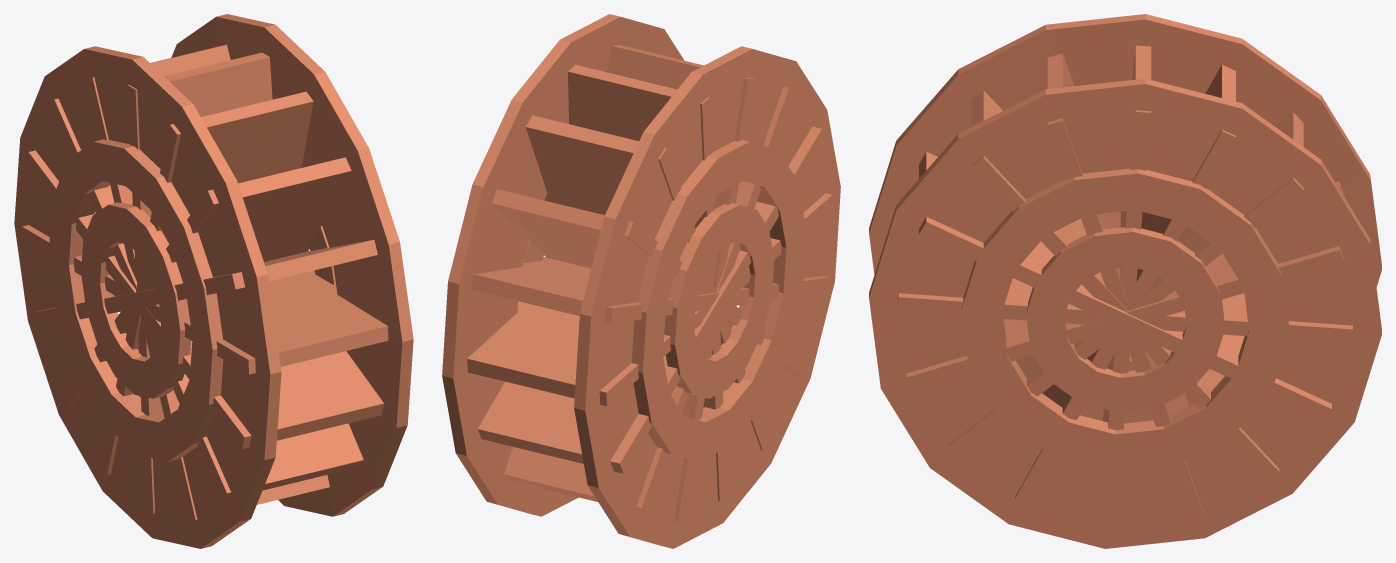
The model's file is watermill.fbx.
The picture shows the model from 3 angles, left to right: view 1: azimuth 30°, elevation 25°; view 2: azimuth 150°, elevation 25°; view 3: azimuth 270°, elevation 25°; orthographic projection.
Parts seen in each view (by area): view 1: hweel; view 2: hweel; view 3: hweel.
Boxes of the visible parts, left/top/right/bottom form: hweel: left=14, top=14, right=413, bottom=548; hweel: left=442, top=14, right=840, bottom=548; hweel: left=869, top=14, right=1381, bottom=548.
Bounding box in the file's own units: 119 × 317 × 317.
